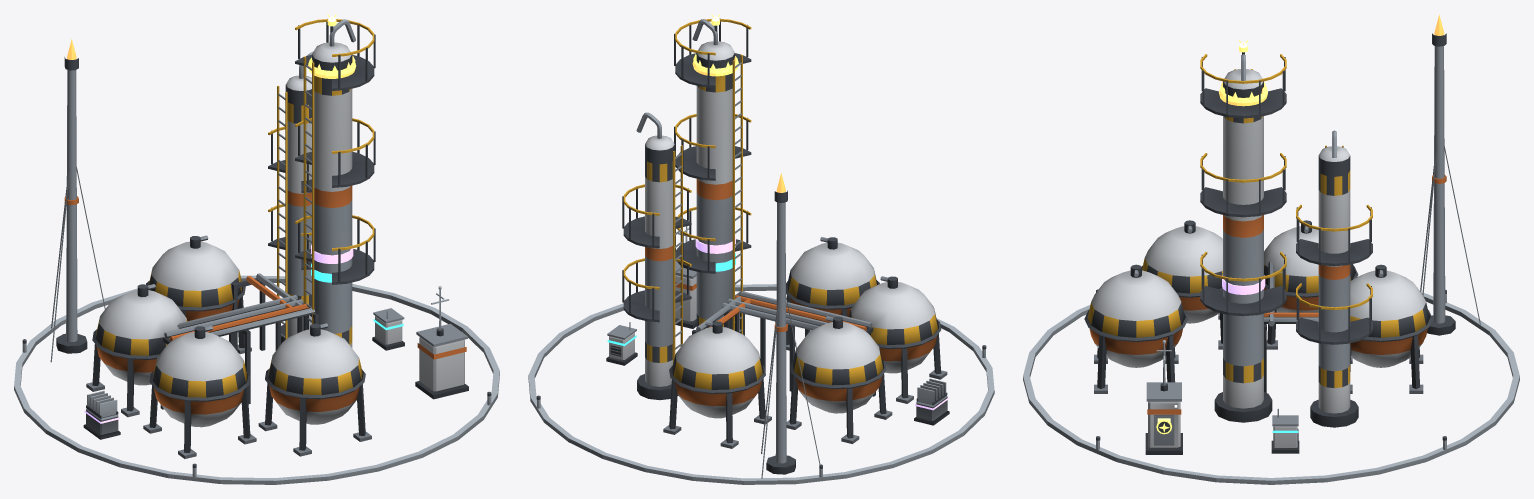
Rendered from fuel_refinery_xl.glb.
3 renders of one model, left to right at view 1: azimuth 30°, elevation 25°; view 2: azimuth 150°, elevation 25°; view 3: azimuth 270°, elevation 25°, orthographic. The views are drawn at different scales.
Visible parts, largest first — view 1: Base, L2, L4, L3, L5; view 2: Base, L2, L4, L3, L5; view 3: Base, L2, L3, L5.
Part boxes in pixels (left/top/right/bottom): Base: left=50, top=19, right=468, bottom=458; L2: left=14, top=275, right=499, bottom=484; L4: left=83, top=245, right=353, bottom=439; L3: left=311, top=263, right=404, bottom=350; L5: left=308, top=14, right=356, bottom=78; Base: left=622, top=18, right=947, bottom=478; L2: left=528, top=226, right=994, bottom=484; L4: left=695, top=235, right=949, bottom=425; L3: left=606, top=253, right=735, bottom=365; L5: left=692, top=14, right=738, bottom=76; Base: left=1084, top=14, right=1480, bottom=454; L2: left=1023, top=289, right=1519, bottom=484; L3: left=1271, top=408, right=1299, bottom=453; L5: left=1156, top=40, right=1267, bottom=434.
Size of the model in its own units: 10.66 by 8.75 by 10.66.
